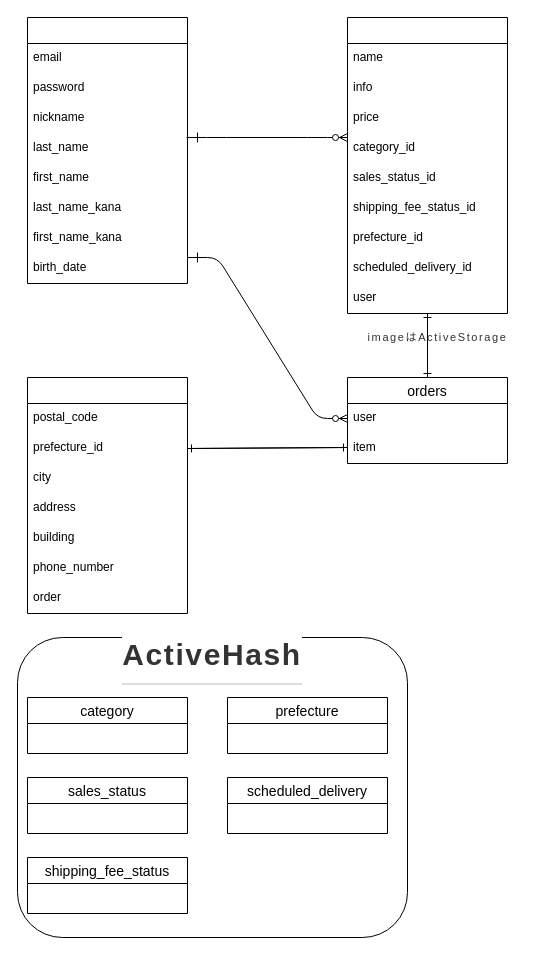
This 535x955 diagram has some shape labels left out. Each missing label, with the box of its shape:
addresses: (26, 376, 188, 614)
items: (346, 16, 508, 314)
users: (26, 16, 188, 284)
